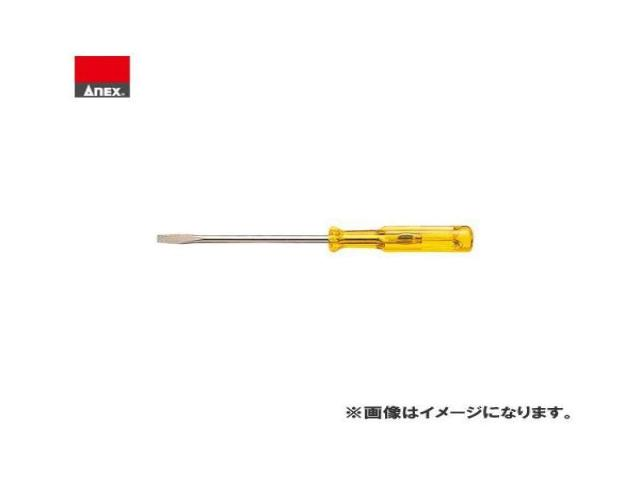Screwdriver: (158, 226, 472, 252)
